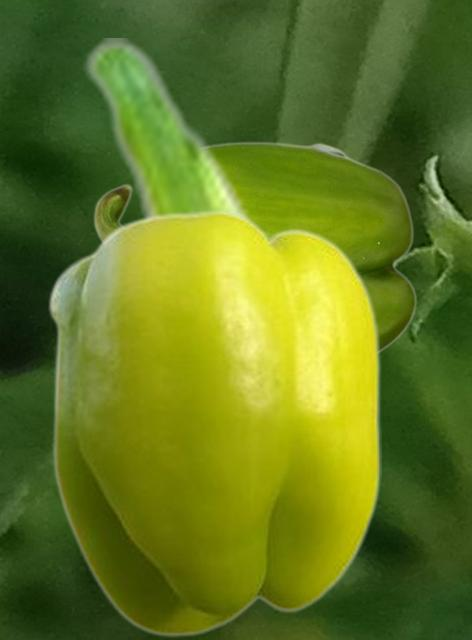bell_pepper: (47, 208, 380, 636), (50, 38, 269, 453), (93, 141, 416, 352)
